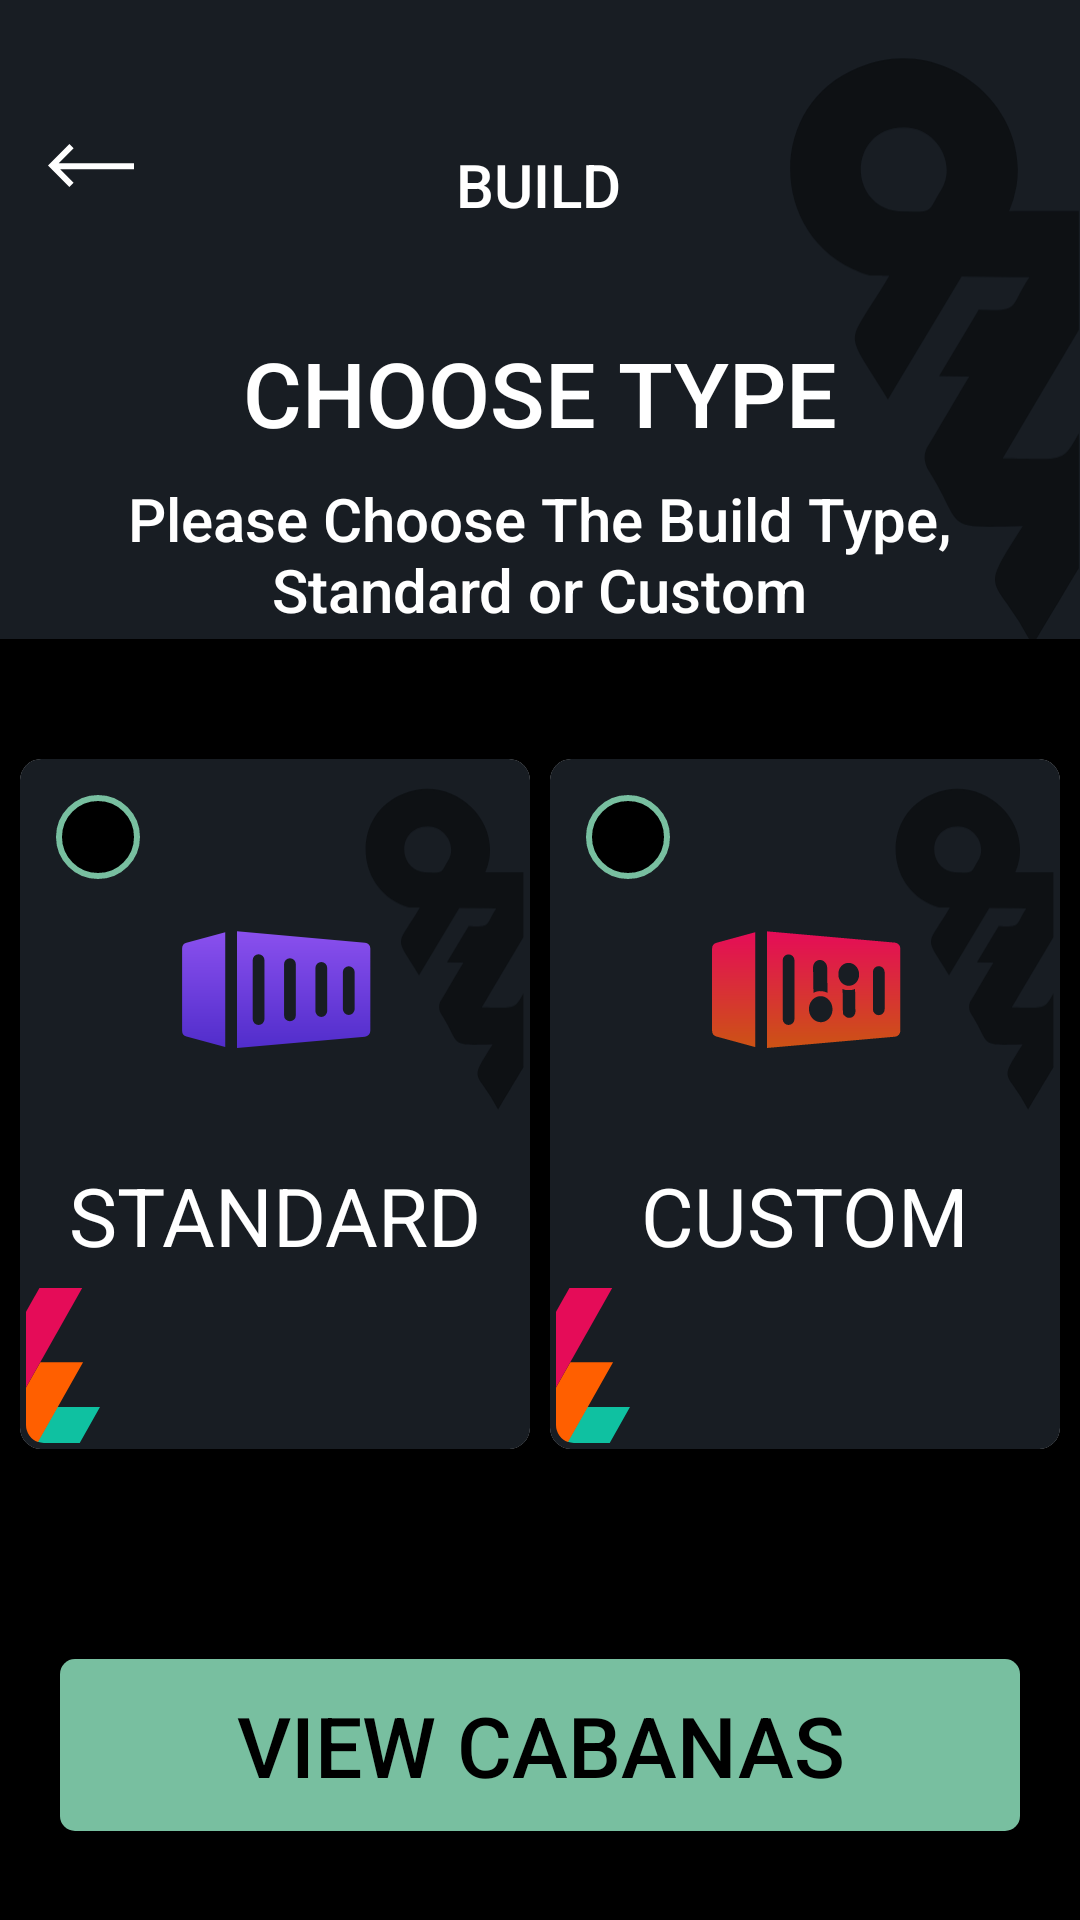

Named icons in this screenshot (1080px x 1920px) and their bounding boxes, (x1, y1, x2, y2):
arrow: (48, 144, 134, 187)
checkboxstyle: (56, 795, 140, 879), (586, 795, 670, 879)
